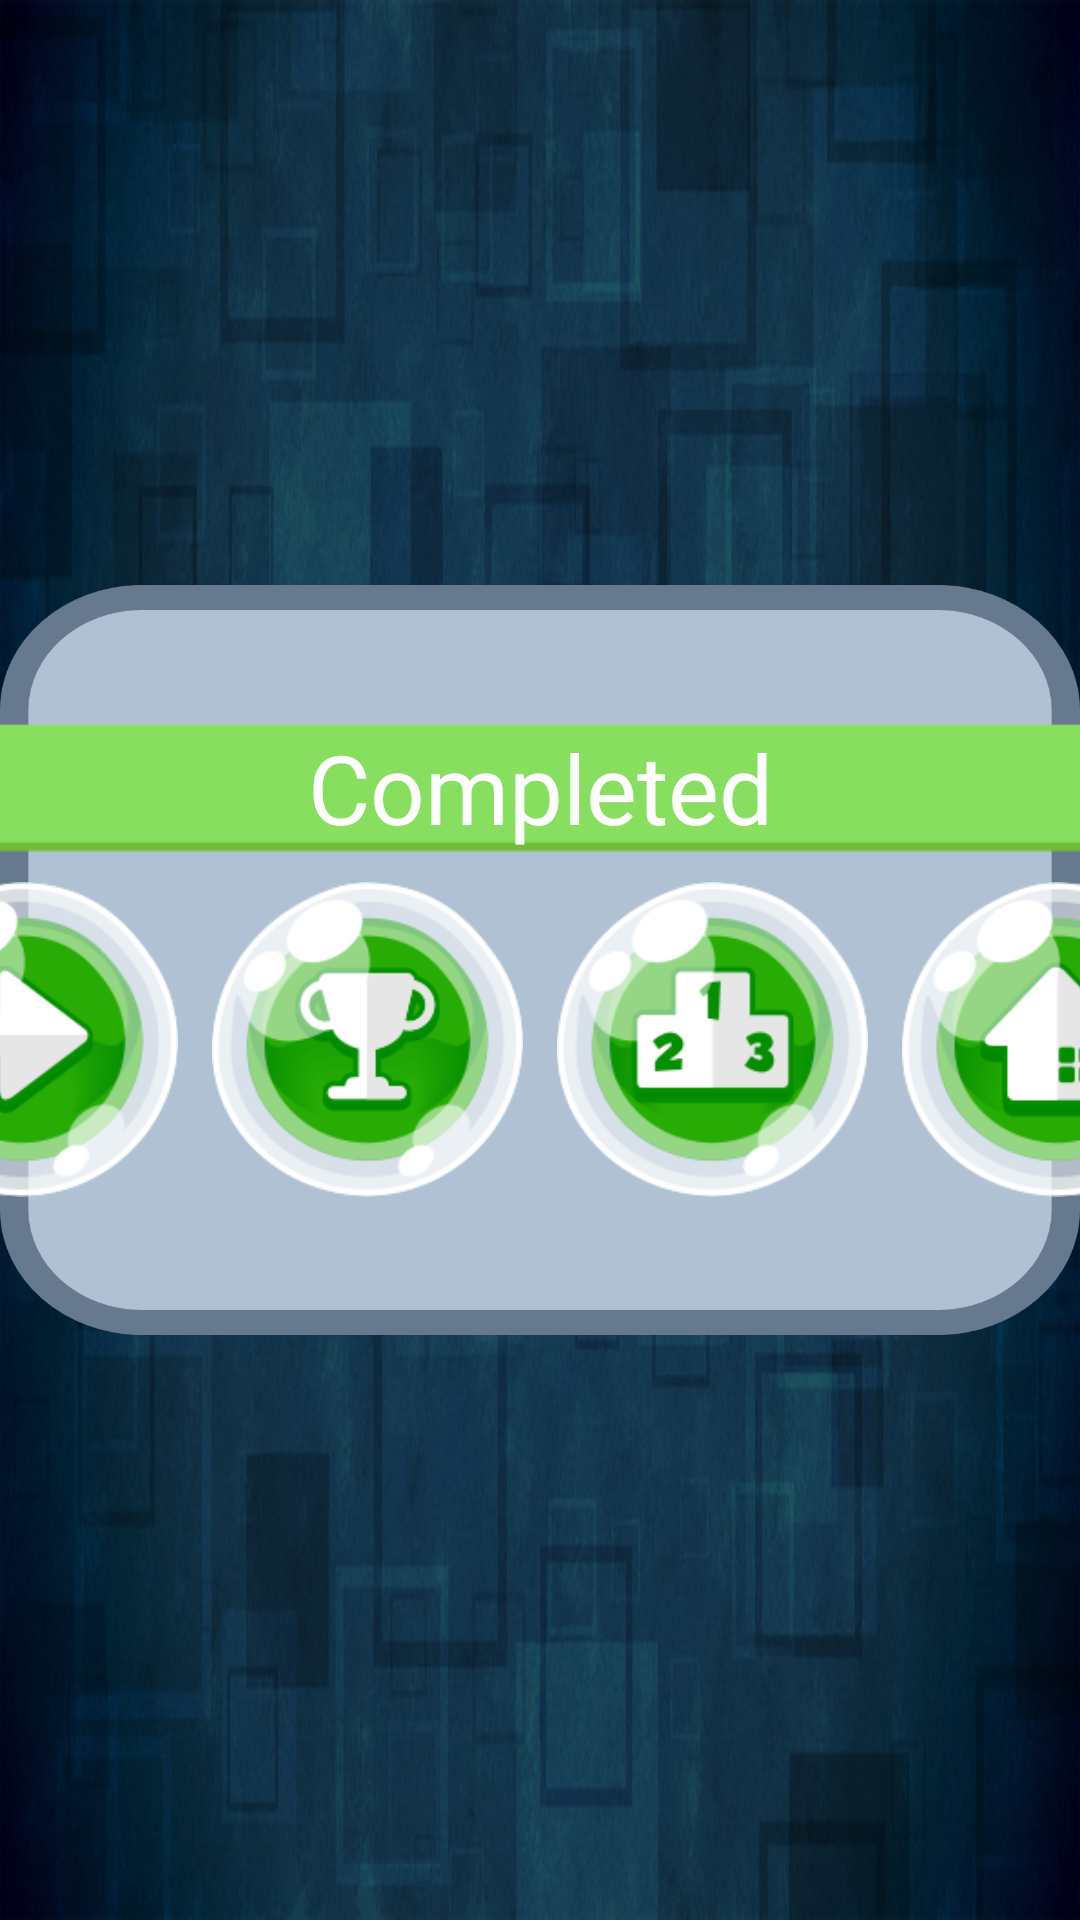

Screen size 1080x1920. Icon name, then its center in pixels as [x,y]:
level complete achievements: [367,1039]
level complete leaderboard: [712,1039]
